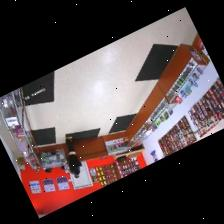person: (65, 136, 79, 175)
